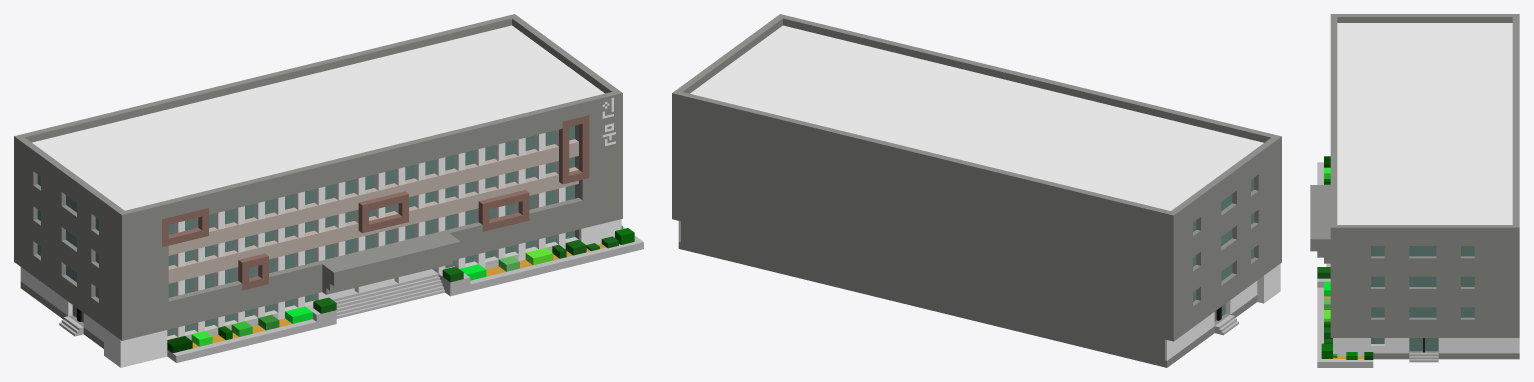
The model's file is INGYEONG.obj.
The picture shows the model from 3 angles, left to right: view 1: azimuth 30°, elevation 25°; view 2: azimuth 150°, elevation 25°; view 3: azimuth 270°, elevation 25°; orthographic projection. The views are drawn at different scales.
Size of the model in its own units: 23.2 by 6.6 by 9.3.
1 material, 1 textured.
